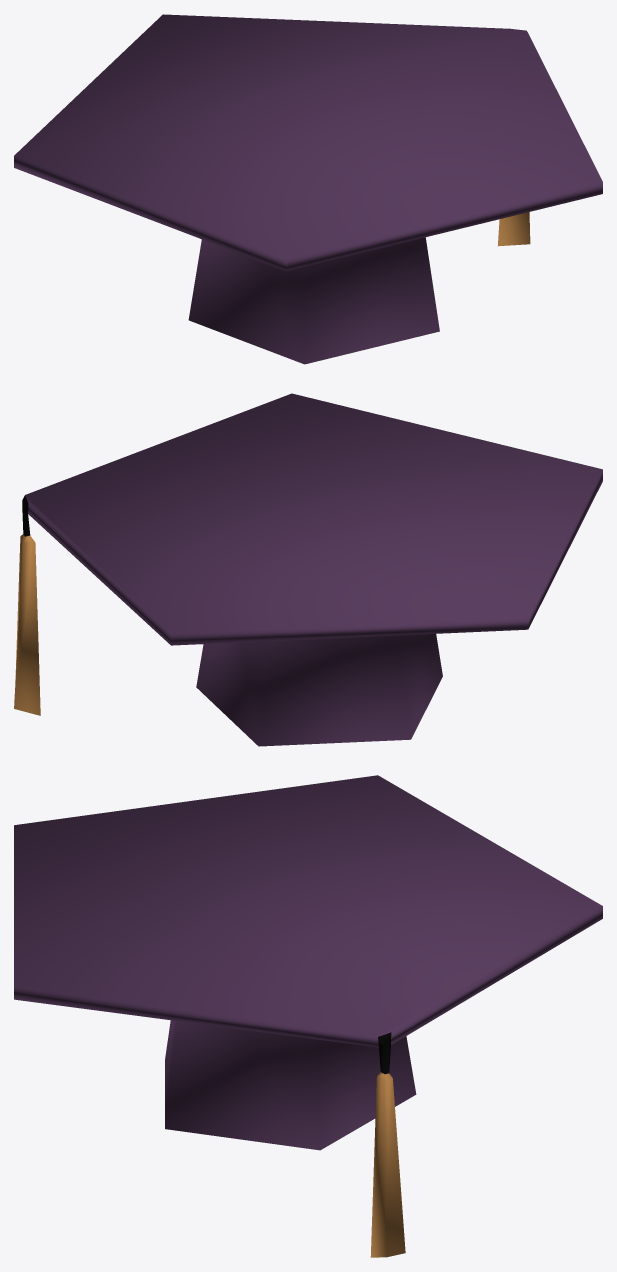
The model's file is Grad_Hat.fbx.
3 views of the same model, one above another, from view 1: azimuth 30°, elevation 25°; view 2: azimuth 150°, elevation 25°; view 3: azimuth 270°, elevation 25° (orthographic). The views are drawn at different scales.
Visible parts, largest first — view 1: GradHat; view 2: GradHat; view 3: GradHat.
Part boxes in pixels (left/top/right/bottom): GradHat: left=14, top=14, right=602, bottom=364; GradHat: left=14, top=393, right=602, bottom=746; GradHat: left=14, top=775, right=602, bottom=1257.
Bounding box in the file's own units: 44.48 × 17.6 × 41.81.
